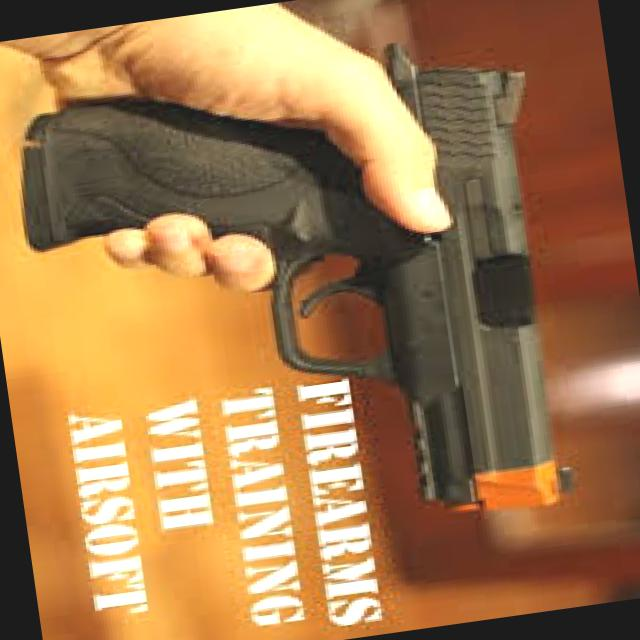handgun: (29, 22, 596, 564)
